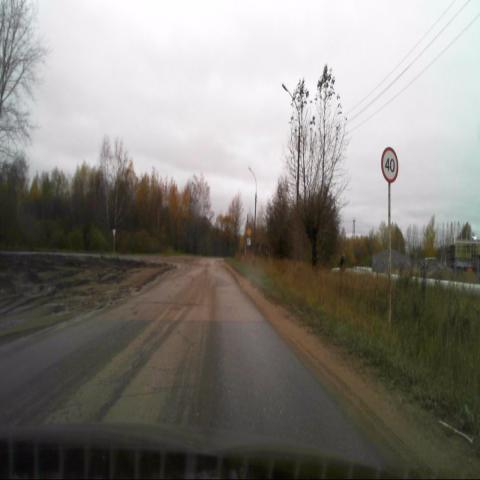3_24: (380, 146, 398, 184)
